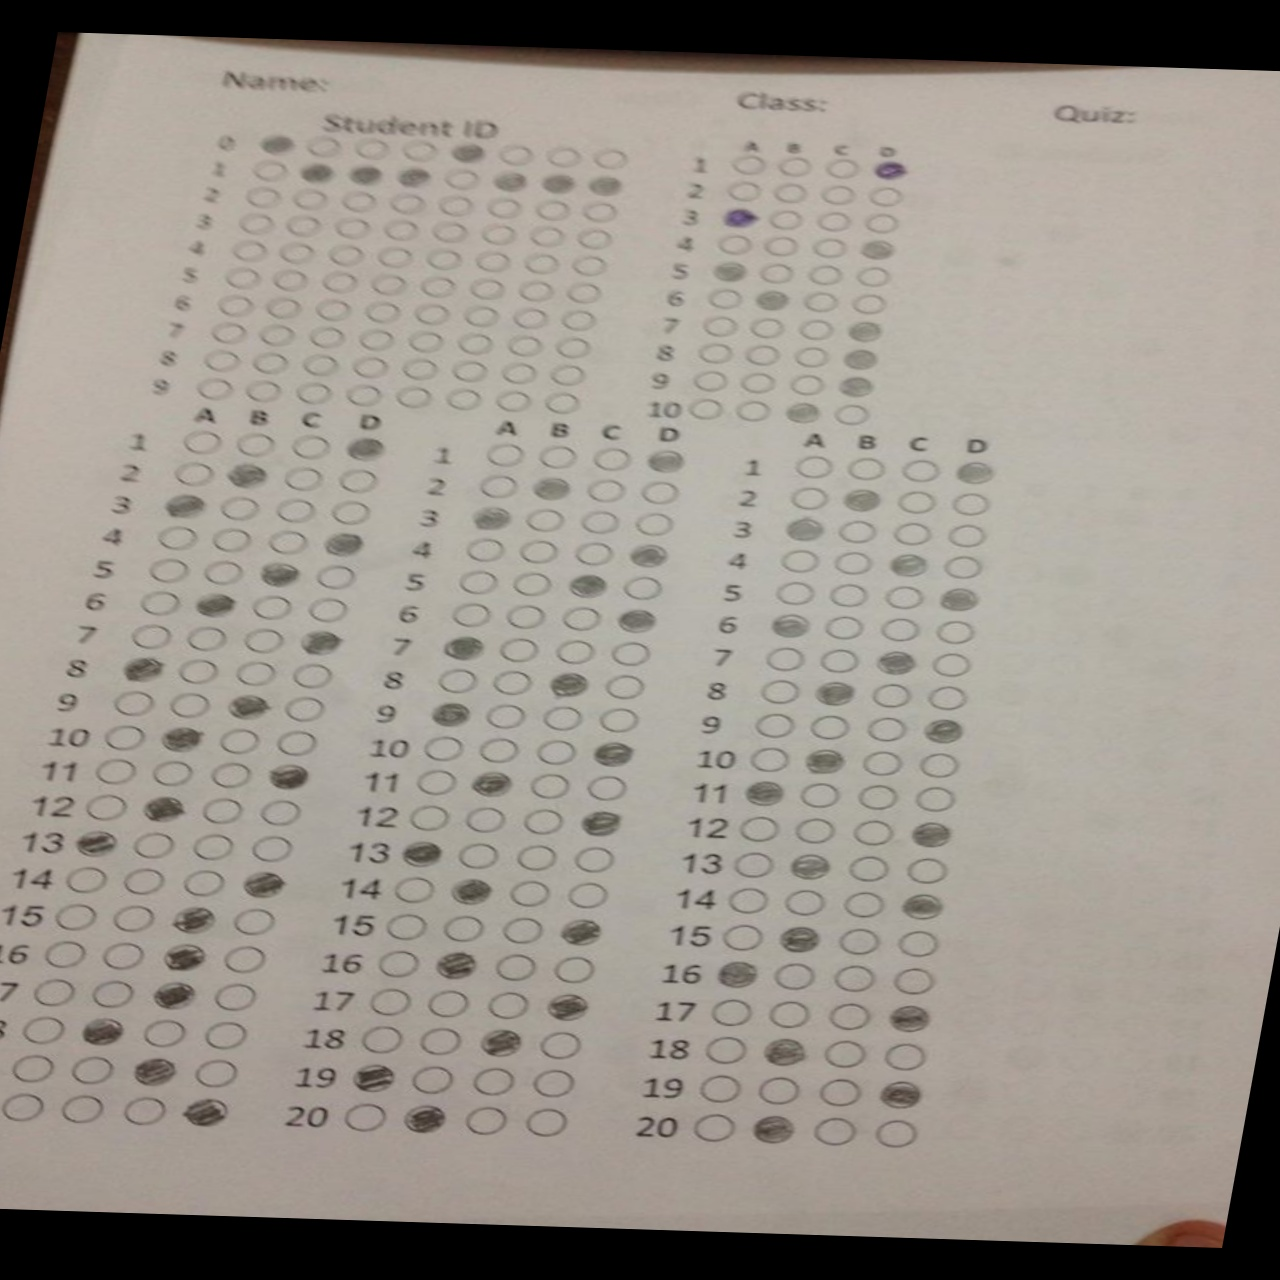not-c: (867, 1115, 926, 1150), (415, 1024, 468, 1058), (59, 1092, 110, 1126), (7, 1051, 60, 1084), (520, 1108, 573, 1141), (811, 1115, 862, 1148), (150, 523, 205, 552), (406, 1064, 459, 1094), (139, 1016, 188, 1049), (144, 554, 196, 585), (333, 465, 383, 496), (311, 561, 361, 592), (67, 1055, 117, 1085), (901, 856, 952, 886), (693, 1071, 743, 1102), (29, 978, 77, 1009), (822, 1037, 870, 1069), (286, 433, 338, 462), (192, 1058, 244, 1088), (340, 1104, 392, 1133), (813, 1078, 865, 1108), (215, 492, 264, 523), (120, 1096, 169, 1126), (356, 1023, 406, 1054), (840, 890, 890, 920), (832, 964, 881, 994), (693, 1111, 738, 1144), (891, 965, 938, 996), (697, 1037, 750, 1065), (210, 982, 260, 1012), (469, 1067, 519, 1096), (215, 727, 263, 757), (565, 881, 613, 912), (166, 459, 218, 488), (326, 498, 377, 526), (438, 915, 490, 944), (938, 554, 989, 583), (721, 886, 772, 914), (231, 430, 280, 459), (278, 464, 327, 493), (232, 658, 281, 687), (80, 792, 129, 822), (556, 606, 605, 635), (772, 961, 822, 990), (100, 940, 147, 971), (220, 944, 267, 974), (19, 1015, 66, 1046), (709, 998, 756, 1028), (881, 1043, 928, 1074), (287, 662, 338, 690), (493, 635, 544, 663), (199, 795, 244, 826), (254, 797, 302, 826), (52, 903, 100, 932), (844, 857, 896, 884), (177, 427, 226, 455), (247, 593, 297, 621), (109, 904, 158, 932), (512, 843, 561, 871), (424, 989, 474, 1017), (874, 615, 924, 644), (511, 277, 558, 306), (207, 525, 254, 554), (273, 729, 320, 758), (189, 832, 236, 862), (384, 912, 431, 941), (492, 954, 539, 983), (551, 954, 598, 983), (924, 683, 971, 713), (719, 921, 765, 951), (927, 651, 978, 678), (796, 782, 846, 809), (755, 1076, 799, 1107), (240, 625, 288, 653), (602, 673, 651, 701), (203, 1020, 248, 1049), (804, 715, 856, 741), (334, 188, 383, 215), (457, 304, 506, 331), (271, 497, 320, 524), (571, 846, 620, 873), (931, 618, 980, 645), (847, 821, 897, 847), (914, 783, 958, 813), (200, 557, 247, 585), (305, 595, 352, 624), (248, 835, 295, 863), (64, 866, 111, 894), (229, 907, 275, 935), (622, 573, 669, 601), (537, 703, 584, 731), (375, 949, 422, 978), (530, 1071, 577, 1099), (828, 1003, 874, 1032), (89, 981, 134, 1010), (745, 744, 790, 774), (735, 813, 779, 843), (791, 818, 836, 847), (445, 358, 496, 383), (173, 658, 222, 685), (98, 724, 147, 751), (536, 1032, 584, 1058), (461, 1107, 509, 1133), (947, 492, 995, 519), (879, 583, 927, 610), (821, 614, 869, 641), (751, 712, 799, 738), (855, 784, 903, 811), (894, 930, 942, 956), (181, 869, 226, 897), (511, 570, 557, 598), (502, 915, 547, 944), (836, 927, 881, 955), (522, 806, 565, 836), (774, 580, 817, 610), (349, 135, 399, 161), (297, 350, 343, 377), (428, 219, 475, 246), (166, 692, 213, 719), (93, 757, 139, 784), (148, 760, 195, 787), (120, 867, 166, 894), (503, 604, 550, 631), (532, 738, 579, 765), (757, 678, 804, 704), (43, 940, 88, 968), (864, 717, 908, 745), (847, 452, 888, 483), (394, 358, 442, 383), (241, 377, 287, 404), (448, 602, 493, 629), (527, 772, 573, 799), (488, 993, 533, 1020), (139, 588, 183, 617), (440, 387, 489, 411), (202, 348, 248, 374), (476, 222, 523, 247), (464, 277, 511, 302), (522, 508, 568, 533), (322, 241, 367, 268), (290, 379, 334, 406), (129, 622, 173, 649), (608, 641, 653, 668), (490, 669, 535, 696), (406, 804, 450, 831), (368, 990, 413, 1017), (765, 1002, 810, 1029), (360, 300, 408, 325), (573, 225, 621, 250), (474, 738, 522, 763), (410, 771, 458, 796), (266, 529, 312, 554), (456, 845, 502, 871), (828, 583, 873, 608), (870, 682, 915, 708), (915, 750, 961, 776), (111, 690, 155, 717), (282, 695, 326, 722), (130, 832, 173, 859), (436, 668, 479, 695), (784, 888, 828, 915), (481, 704, 527, 729), (463, 806, 504, 835), (358, 327, 402, 353), (207, 763, 252, 789), (456, 570, 501, 595), (788, 486, 832, 512), (946, 523, 990, 549), (859, 751, 904, 777), (343, 382, 386, 409), (478, 474, 520, 501), (838, 519, 880, 546), (452, 332, 501, 355), (761, 648, 809, 672), (563, 280, 608, 305), (557, 308, 602, 333), (639, 481, 685, 505), (516, 539, 561, 564), (818, 649, 864, 674), (302, 134, 346, 159), (313, 297, 356, 322), (406, 331, 449, 356), (392, 384, 435, 410), (497, 360, 540, 386), (547, 362, 591, 388), (222, 264, 263, 291), (527, 224, 568, 251), (481, 443, 527, 467), (256, 322, 300, 347), (416, 275, 461, 300), (492, 389, 537, 414), (184, 626, 229, 651), (509, 881, 553, 906), (388, 191, 430, 217), (481, 195, 523, 220), (271, 265, 313, 291), (590, 445, 632, 471), (465, 535, 504, 563), (393, 877, 435, 903), (580, 509, 620, 536), (282, 213, 328, 237), (347, 354, 393, 377), (729, 853, 775, 877), (261, 295, 305, 320), (318, 270, 361, 294), (586, 478, 629, 503), (422, 736, 465, 761), (892, 523, 935, 547), (423, 247, 464, 273), (411, 302, 452, 328), (590, 147, 634, 170), (595, 709, 640, 733), (535, 198, 577, 223), (538, 443, 580, 468), (779, 550, 822, 574), (496, 143, 539, 166), (286, 188, 329, 211), (248, 352, 292, 375), (331, 216, 374, 239), (374, 246, 417, 270), (504, 334, 547, 358), (552, 335, 595, 359), (734, 400, 777, 423), (636, 512, 680, 536), (241, 184, 282, 209), (855, 264, 896, 288), (585, 776, 626, 801), (896, 490, 937, 515), (570, 543, 614, 565), (399, 139, 441, 163), (544, 144, 586, 168), (580, 200, 622, 224), (306, 326, 348, 349), (472, 250, 515, 273), (540, 392, 583, 415), (736, 372, 778, 395), (828, 403, 870, 427), (230, 238, 270, 263), (277, 240, 316, 265), (687, 397, 727, 422), (796, 454, 836, 478), (832, 551, 872, 576), (215, 295, 258, 318), (571, 253, 614, 275), (726, 154, 769, 176), (207, 321, 248, 345), (195, 376, 236, 400), (509, 306, 550, 329), (903, 461, 944, 484), (437, 193, 476, 218), (369, 274, 411, 297), (823, 157, 865, 179), (805, 264, 847, 286), (756, 261, 796, 285), (520, 253, 561, 275), (722, 181, 763, 203), (715, 234, 756, 257), (695, 342, 736, 365), (554, 641, 595, 663), (442, 168, 481, 191), (383, 219, 422, 243), (776, 155, 815, 178), (798, 318, 837, 341), (250, 159, 292, 181), (743, 343, 785, 365), (236, 213, 275, 236), (821, 183, 860, 205), (865, 185, 905, 207), (847, 293, 888, 314), (771, 181, 810, 203), (702, 315, 741, 338), (817, 211, 853, 234), (762, 234, 802, 256), (788, 374, 828, 395), (749, 316, 787, 339), (811, 238, 852, 258), (801, 292, 842, 312), (692, 370, 730, 392), (794, 347, 831, 368), (707, 290, 745, 309), (862, 213, 898, 234), (769, 210, 805, 230)
taken-c: (874, 1001, 939, 1040), (137, 978, 204, 1010), (67, 825, 123, 864), (570, 806, 629, 843), (292, 626, 349, 662), (234, 869, 295, 903), (903, 822, 961, 857), (175, 1092, 231, 1129), (625, 537, 678, 576), (747, 1110, 805, 1144), (110, 651, 171, 682), (128, 1055, 181, 1091), (760, 1036, 816, 1069), (345, 1063, 404, 1094), (461, 768, 518, 799), (168, 903, 220, 937), (709, 959, 763, 992), (401, 1102, 452, 1136), (547, 670, 597, 706), (195, 590, 245, 624), (583, 741, 636, 772), (437, 632, 491, 663), (558, 915, 605, 952), (644, 445, 695, 478), (920, 715, 972, 748), (472, 1024, 522, 1058), (154, 940, 206, 972), (542, 989, 594, 1021), (884, 550, 934, 583), (869, 1080, 927, 1108), (764, 612, 818, 642), (256, 558, 307, 590), (813, 678, 863, 710), (429, 949, 483, 979), (139, 794, 188, 826), (774, 922, 822, 955), (448, 874, 497, 906), (614, 606, 663, 638), (566, 572, 617, 602), (835, 485, 883, 517), (261, 762, 312, 791), (900, 893, 951, 922), (428, 700, 479, 728), (788, 855, 839, 883), (937, 588, 988, 617), (779, 513, 831, 542), (465, 503, 512, 533), (527, 475, 574, 505), (946, 459, 999, 486), (79, 1017, 123, 1049), (397, 840, 445, 870), (159, 726, 205, 756), (219, 690, 268, 719), (320, 527, 367, 557), (782, 399, 828, 427), (874, 649, 918, 679), (742, 779, 785, 808), (222, 462, 270, 486), (159, 492, 207, 517), (797, 748, 845, 772), (835, 374, 881, 399), (256, 131, 299, 157), (535, 171, 577, 197), (845, 319, 888, 343), (342, 435, 386, 459), (488, 169, 530, 192), (751, 287, 794, 311), (860, 236, 900, 260), (585, 172, 622, 198), (712, 260, 754, 282), (872, 156, 908, 181), (836, 349, 880, 369), (347, 164, 384, 188), (722, 205, 760, 229), (450, 138, 486, 162), (299, 162, 336, 184), (394, 168, 433, 188)
